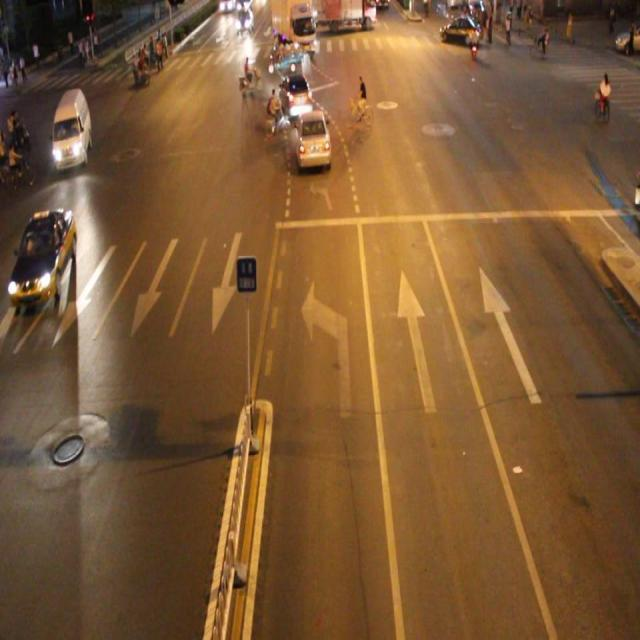BigCar: (274, 1, 321, 52)
car: (8, 210, 73, 306), (52, 89, 91, 165), (296, 111, 328, 166), (438, 14, 479, 50), (282, 77, 312, 114)
